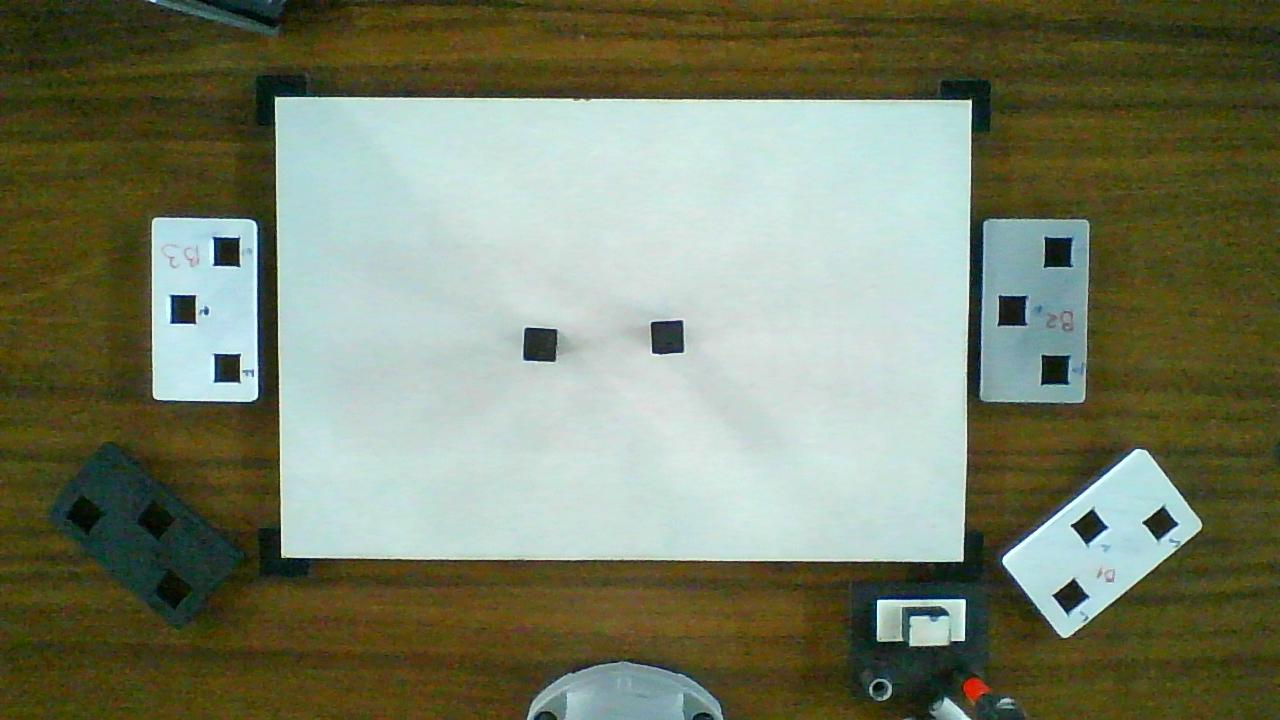peca_preta: (651, 321, 684, 353), (525, 328, 557, 361)
